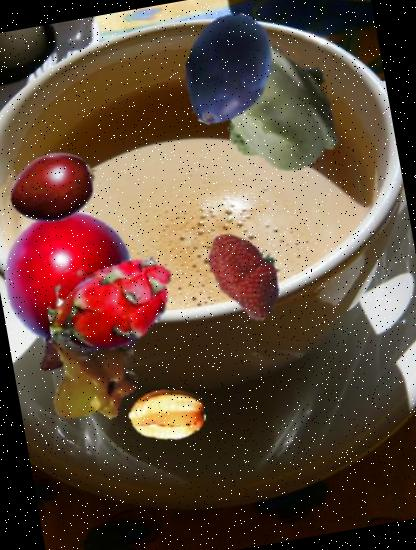Carambula: (36, 316, 152, 432), (122, 369, 212, 458)
Kohlrabi: (201, 32, 356, 187)
Pitahaya: (36, 230, 188, 381)
Plum: (160, 3, 294, 136)
Salak: (26, 305, 104, 384)
Strawberry: (192, 218, 300, 325)
Tamarillo: (0, 199, 148, 355), (1, 134, 108, 241)
